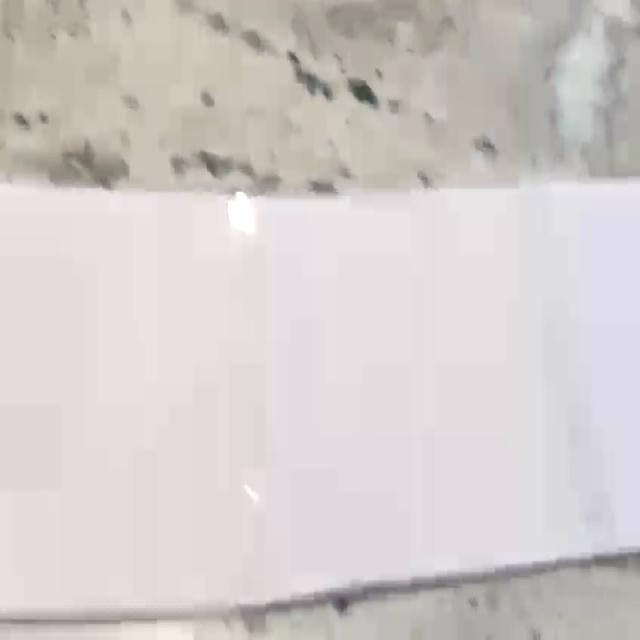road: (0, 179, 640, 621)
